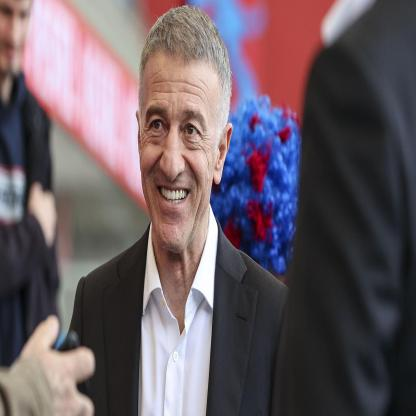person: (137, 6, 233, 262), (0, 0, 37, 88)
